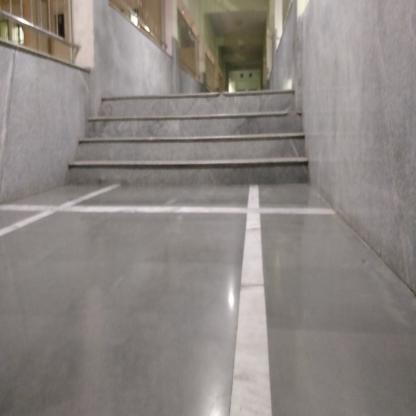stairs: (99, 89, 295, 192)
